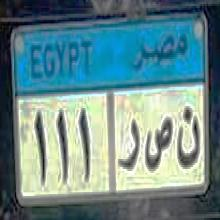1: (78, 107, 93, 185), (34, 107, 48, 186), (56, 108, 70, 184)
noon: (176, 104, 201, 174)
raa: (116, 112, 140, 172)
saad: (145, 114, 172, 175)
